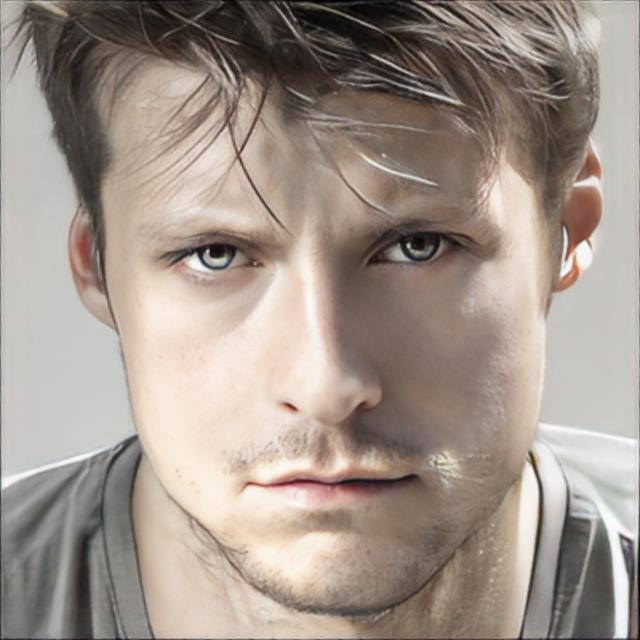anger: (113, 54, 532, 618)
